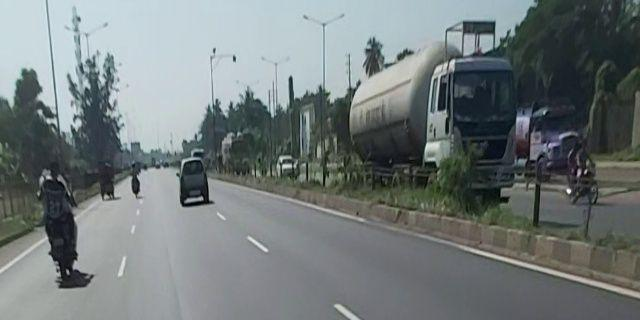Car: (170, 156, 213, 207)
Motorbike: (33, 165, 81, 285)
